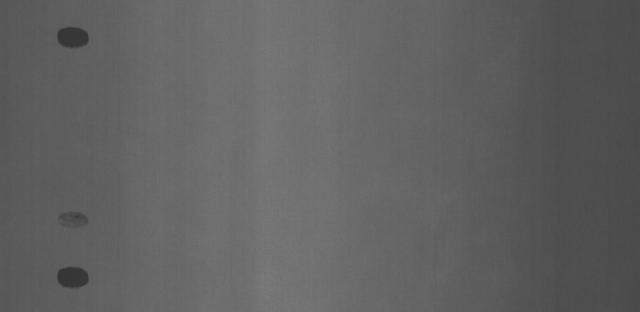oil_spot: (54, 22, 92, 51), (52, 263, 90, 290), (56, 208, 90, 229)
